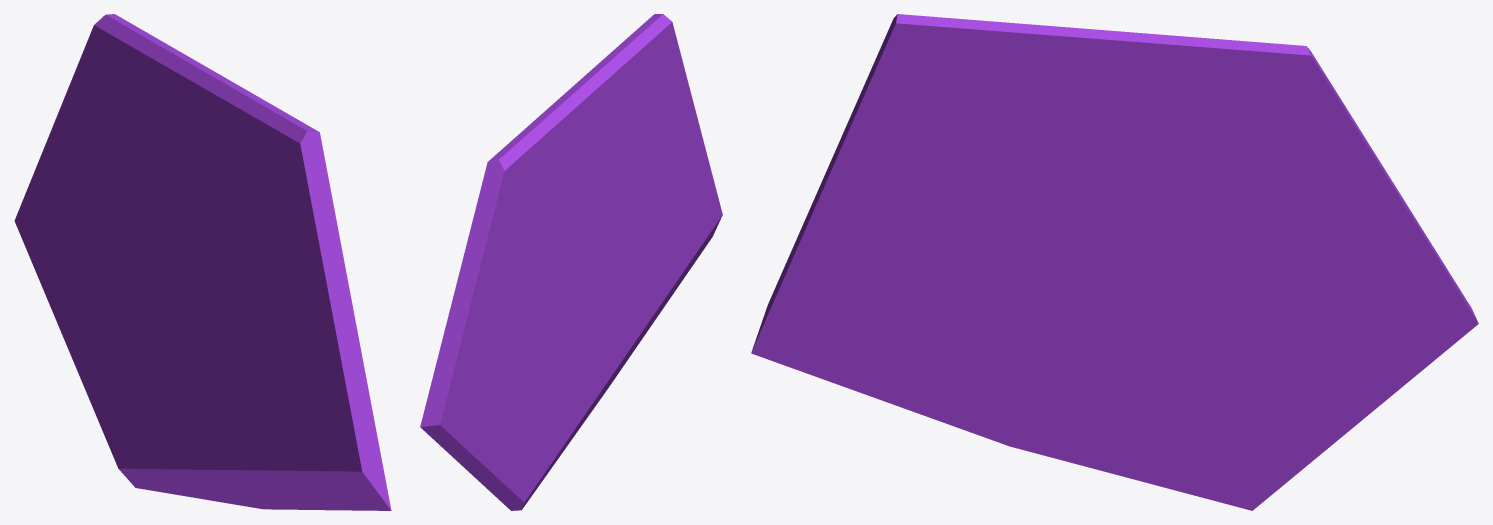
File: Glass_77_15_chunks.fbx
The picture shows the model from 3 angles, left to right: view 1: azimuth 30°, elevation 25°; view 2: azimuth 150°, elevation 25°; view 3: azimuth 270°, elevation 25°; orthographic projection. The views are drawn at different scales.
Visible parts, largest first — view 1: Glass_77_15_5, Glass_77_15_11, Glass_77_15_1, Glass_77_15_12, Glass_77_15_3, Glass_77_15_4, Glass_77_15_0, Glass_77_15_10, Glass_77_15_6, Glass_77_15_8, Glass_77_15_2, Glass_77_15_9; view 2: Glass_77_15_1, Glass_77_15_12, Glass_77_15_11, Glass_77_15_5, Glass_77_15_3, Glass_77_15_4, Glass_77_15_0, Glass_77_15_10, Glass_77_15_8, Glass_77_15_6, Glass_77_15_2, Glass_77_15_9; view 3: Glass_77_15_1, Glass_77_15_5, Glass_77_15_11, Glass_77_15_12, Glass_77_15_2, Glass_77_15_6, Glass_77_15_8, Glass_77_15_4, Glass_77_15_10, Glass_77_15_3, Glass_77_15_7.
Part boxes in pixels (x1,y1,x2,y2): Glass_77_15_5: (234,322,391,510); Glass_77_15_11: (234,102,360,362); Glass_77_15_1: (14,14,124,267); Glass_77_15_12: (105,18,266,203); Glass_77_15_3: (34,267,133,459); Glass_77_15_4: (113,89,176,358); Glass_77_15_0: (127,264,206,490); Glass_77_15_10: (150,176,270,326); Glass_77_15_6: (154,396,290,509); Glass_77_15_8: (189,294,260,416); Glass_77_15_2: (115,321,153,488); Glass_77_15_9: (220,191,276,329); Glass_77_15_1: (420,154,527,446); Glass_77_15_12: (497,49,630,226); Glass_77_15_11: (612,14,705,200); Glass_77_15_5: (619,151,722,354); Glass_77_15_3: (442,345,536,499); Glass_77_15_4: (520,189,572,370); Glass_77_15_0: (525,255,596,504); Glass_77_15_10: (550,167,647,265); Glass_77_15_8: (582,213,640,358); Glass_77_15_6: (536,323,633,489); Glass_77_15_2: (473,364,553,510); Glass_77_15_9: (607,139,652,205); Glass_77_15_1: (1246,45,1478,367); Glass_77_15_5: (751,209,996,426); Glass_77_15_11: (810,14,1039,225); Glass_77_15_12: (997,21,1293,167); Glass_77_15_2: (1172,294,1348,510); Glass_77_15_6: (954,355,1233,505); Glass_77_15_8: (961,226,1183,373); Glass_77_15_4: (1134,106,1264,344); Glass_77_15_10: (957,141,1196,245); Glass_77_15_3: (1324,331,1425,431); Glass_77_15_7: (985,303,1038,390).
Size of the model in its own units: 27.2 by 605 by 812.
